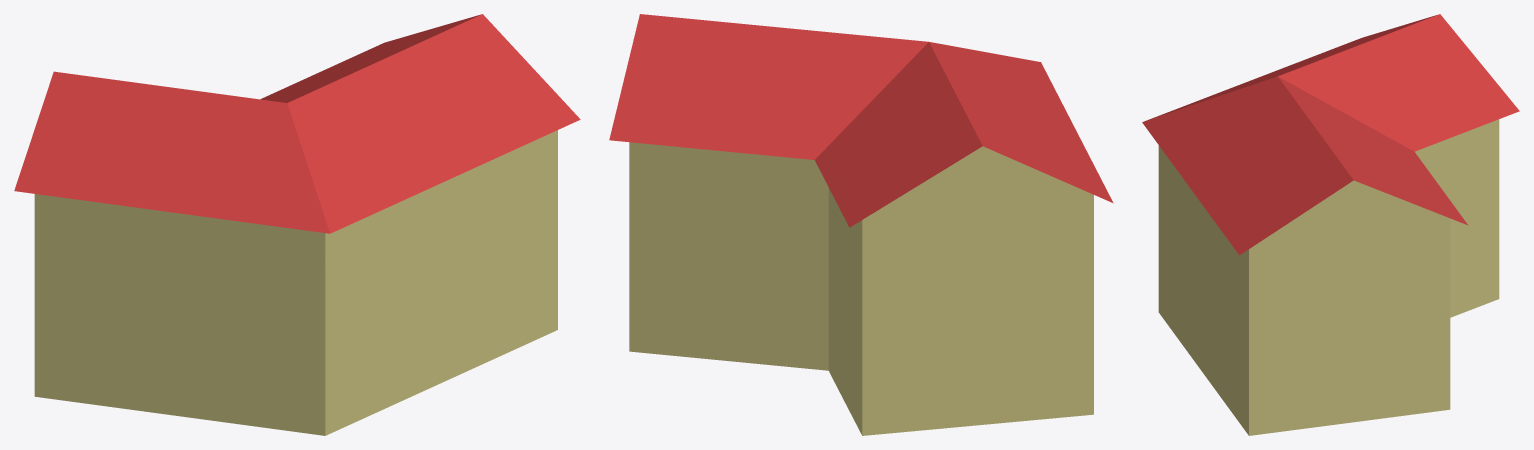
3 views of the same model, side by side, from view 1: azimuth 30°, elevation 25°; view 2: azimuth 150°, elevation 25°; view 3: azimuth 270°, elevation 25° (orthographic). The views are drawn at different scales.
Bounding box in the file's own units: 26.61 × 19.52 × 14.15.
